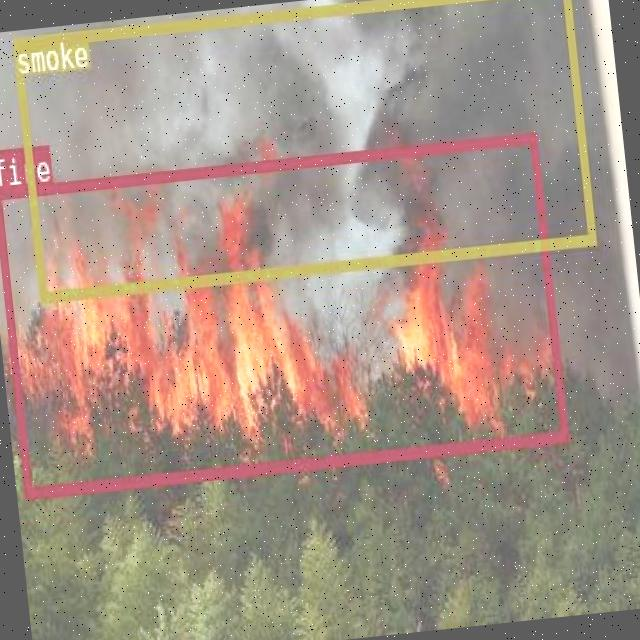fire: (0, 131, 566, 496)
smoke: (10, 0, 594, 301)
